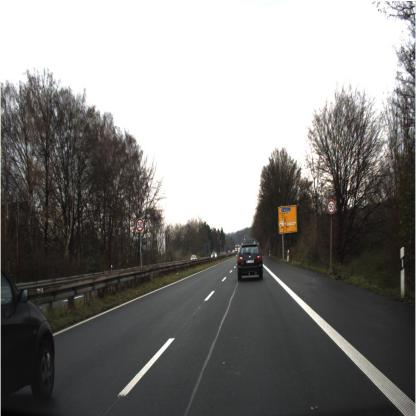prohibitory: (133, 212, 147, 234), (328, 199, 336, 214)
